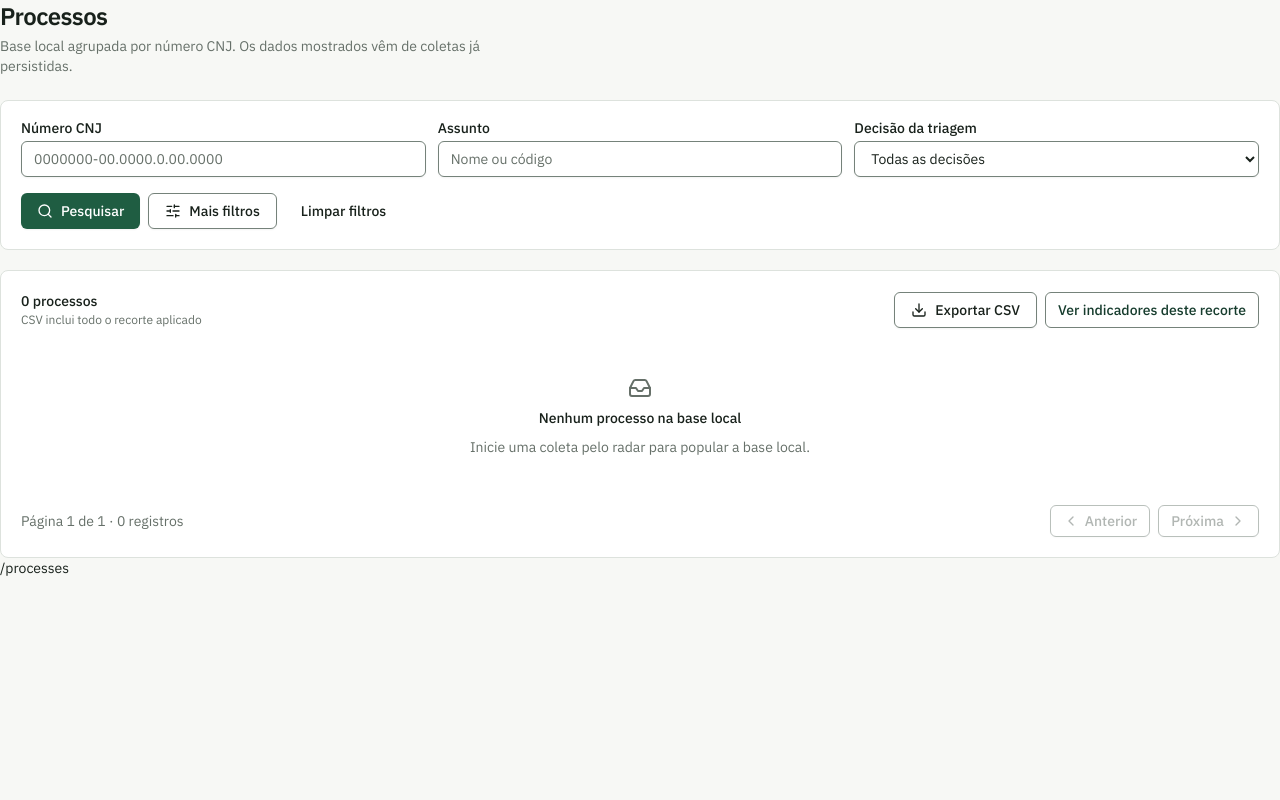
Test: ProcessesPage › selects a canonical suggestion with the keyboard
Click the button "Mais filtros" at (213, 211), box [148, 193, 277, 229]
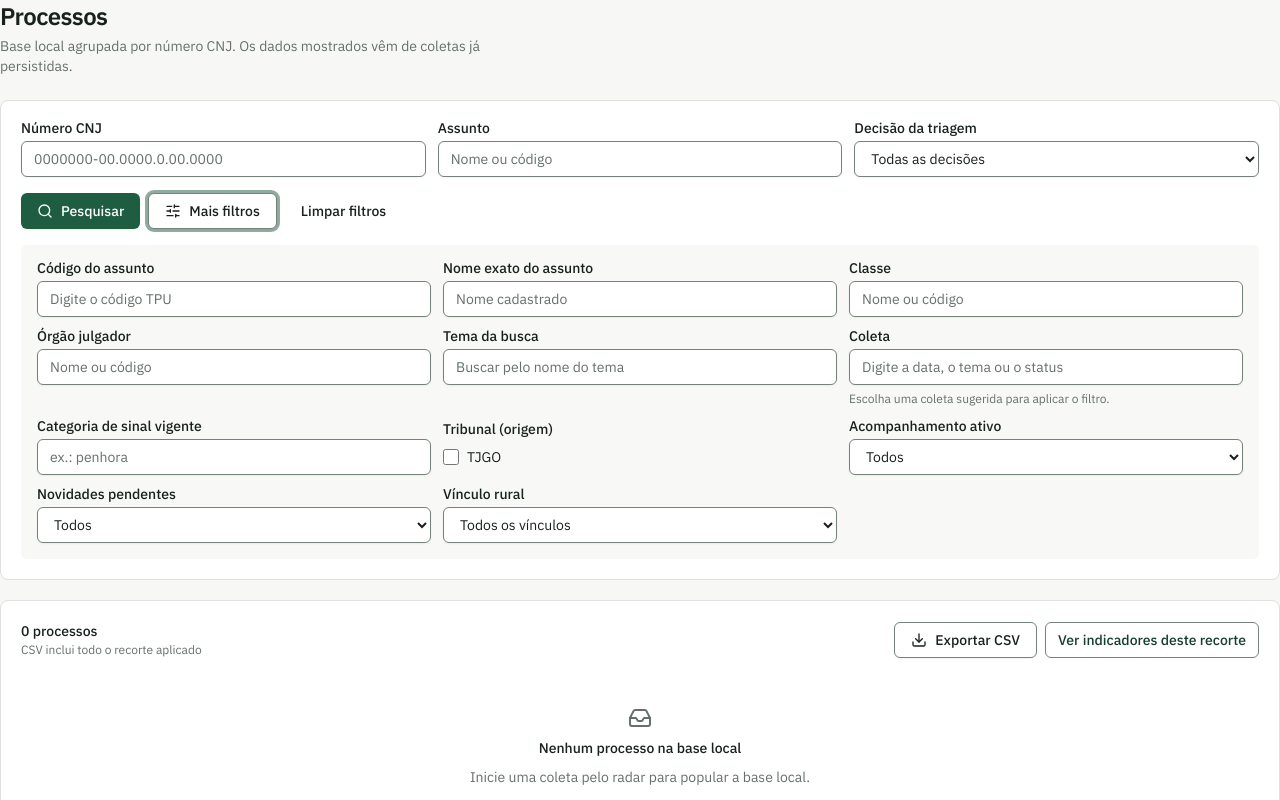
Type "execucao" into the dropdown labelled "Classe" at (1046, 299), box [849, 281, 1243, 317]
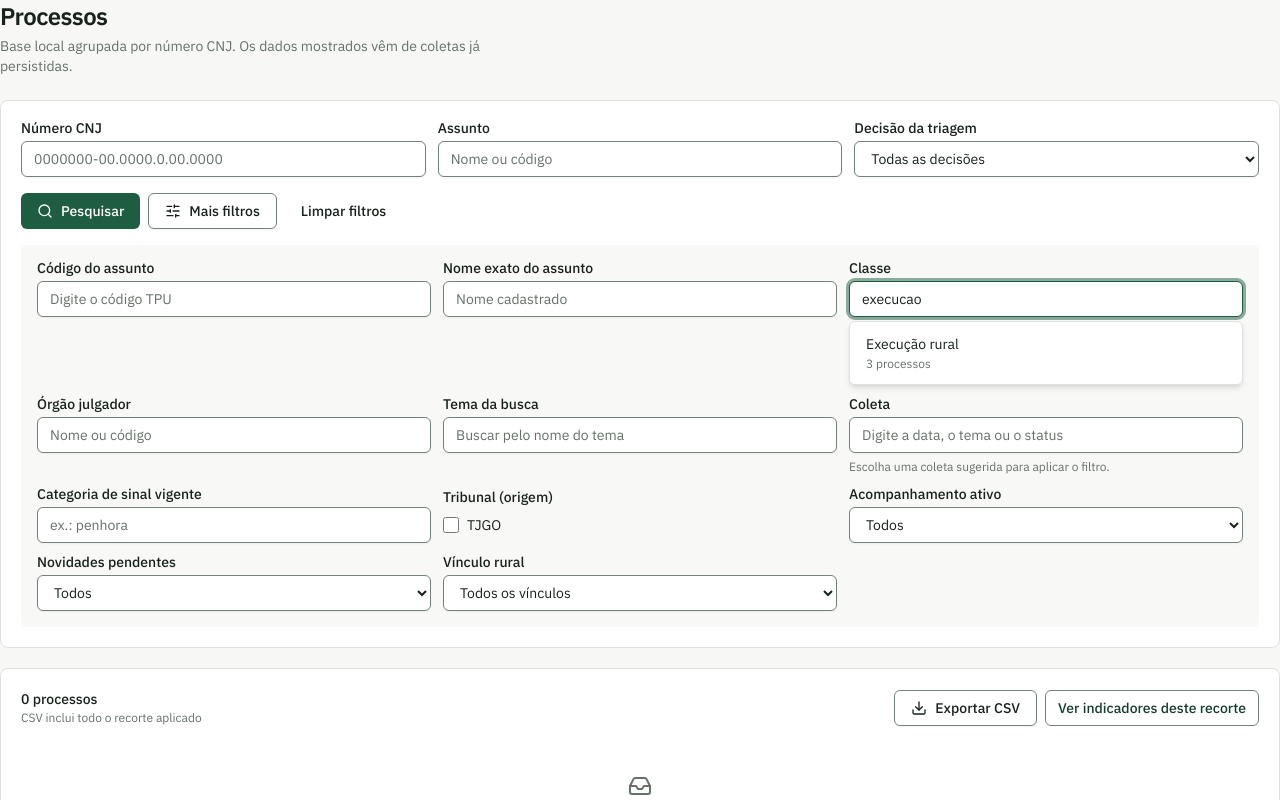
Press Arrowdown Enter
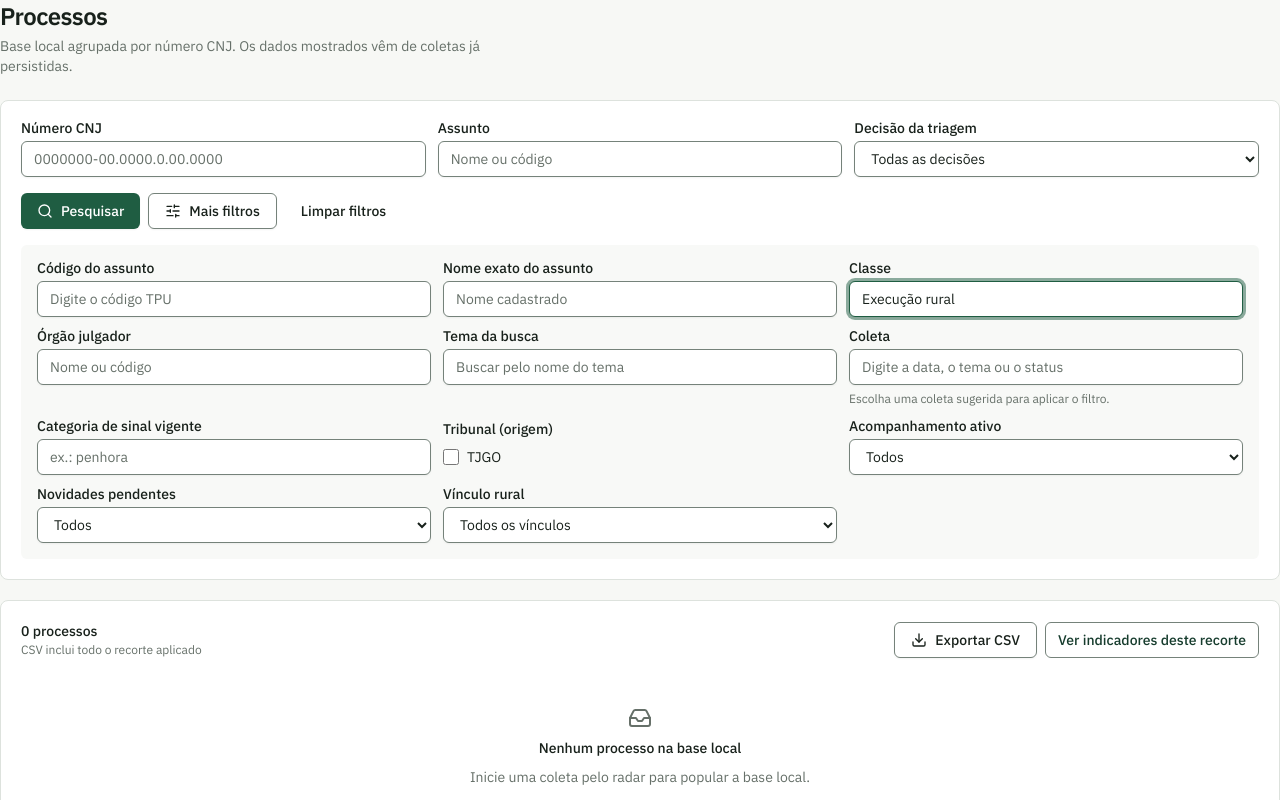
Result: the dropdown labelled "Classe" holds "Execução rural" at [849, 281, 1243, 317]
Click the button "Pesquisar" at (81, 211), box [21, 193, 140, 229]
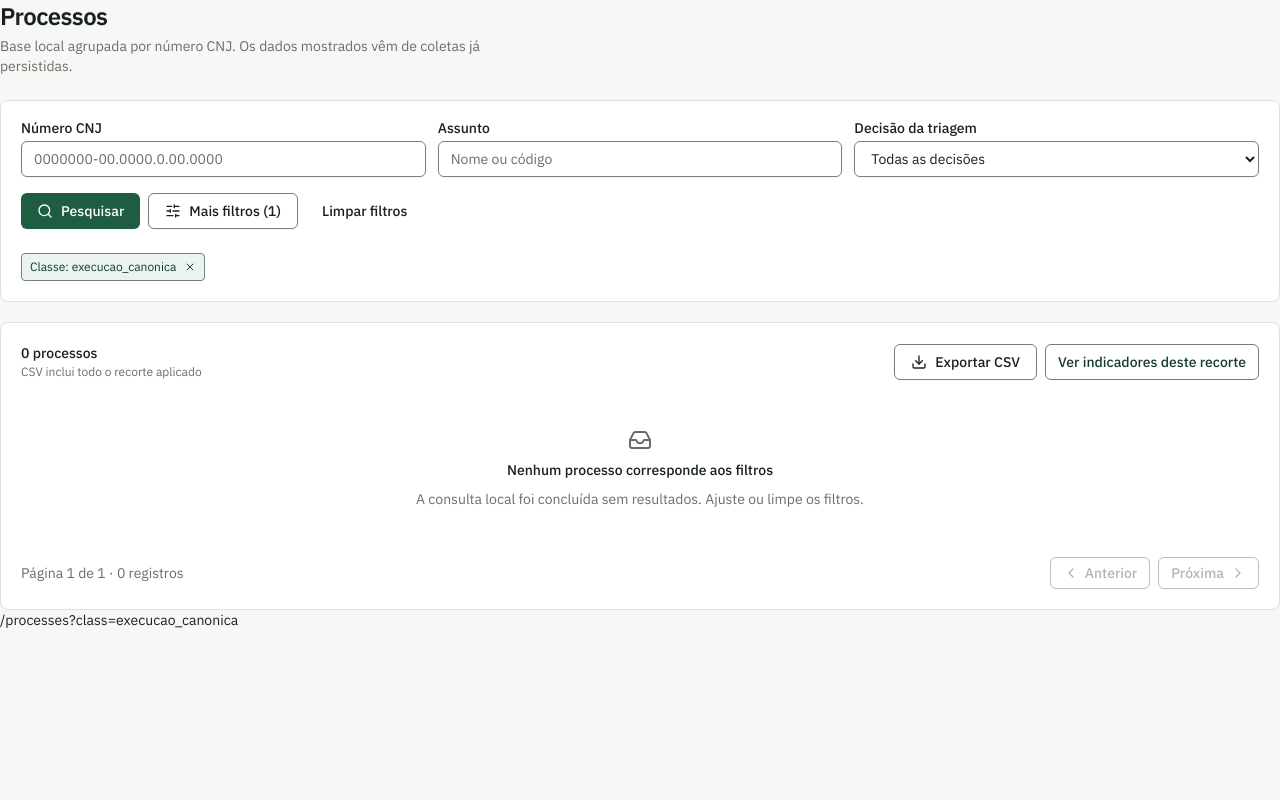
Expected: the option "Execução rural" is not shown
Result: the text with test id "location" shows "class=execucao_canonica" at [0, 611, 238, 629]
